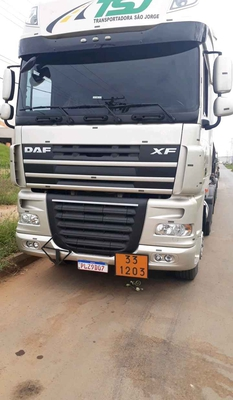Frontal Caminhao: (1, 19, 230, 281)
